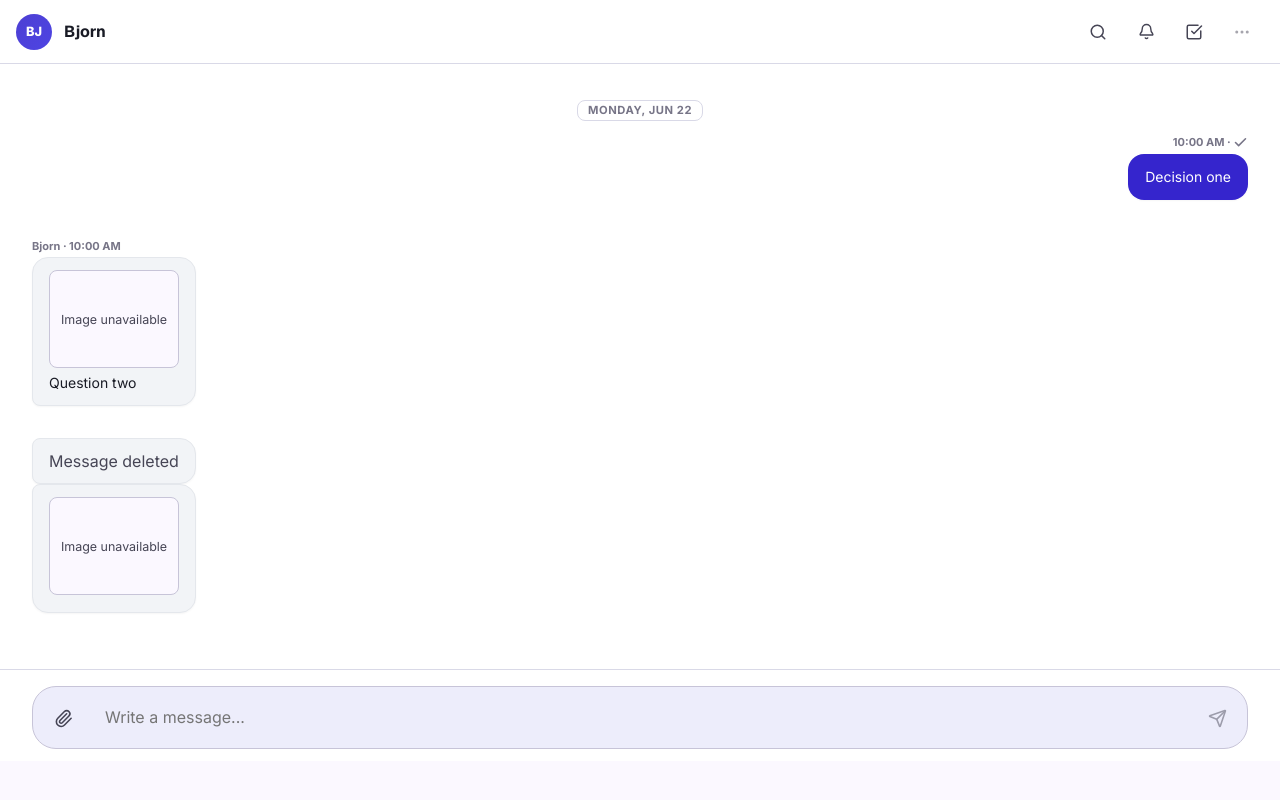
Test case: ConversationPage message forwarding › selects active text, previews exact content, removes an item, and excludes attachments
Expected: the text "Decision one" is shown, x1=1145 y1=168 x2=1231 y2=185
Click the button named "Select messages": (1194, 32) x1=1172 y1=10 x2=1216 y2=54
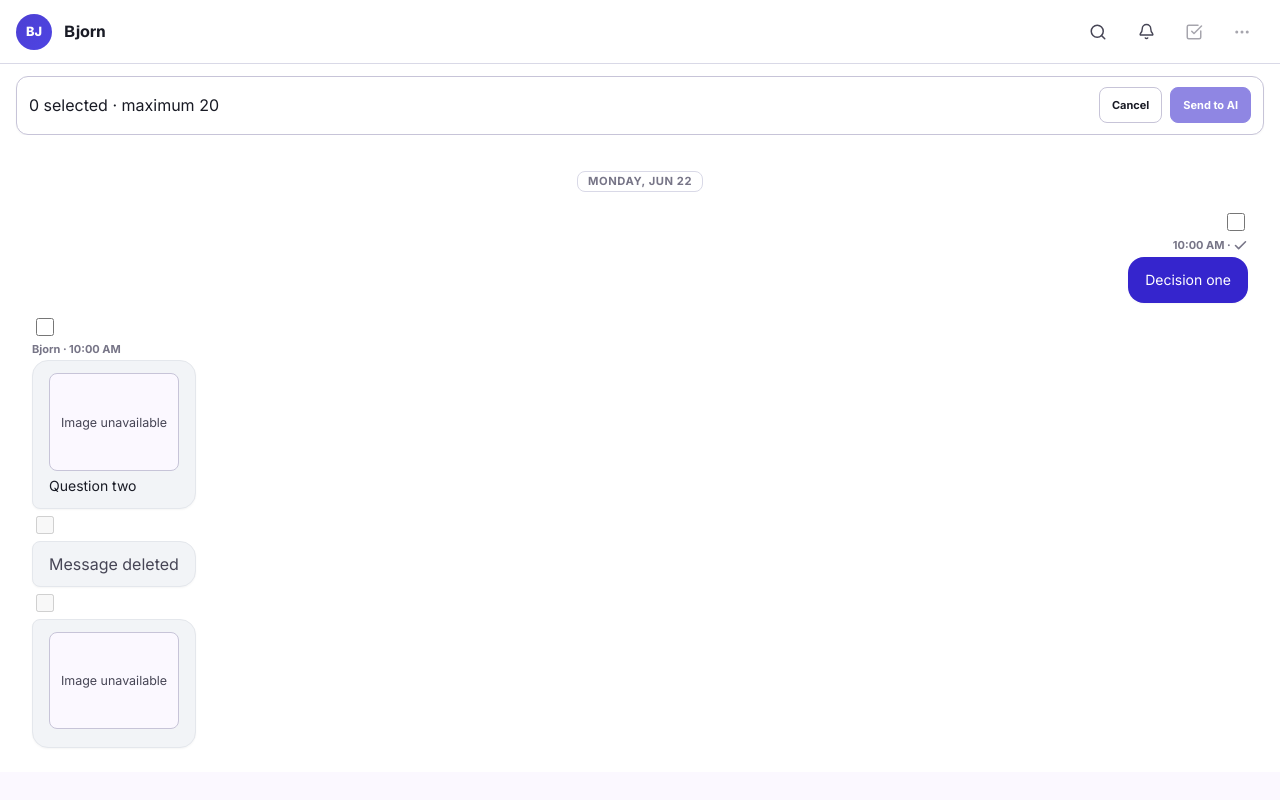
Click the checkbox named "Select message from You": (1236, 222) x1=1227 y1=213 x2=1245 y2=231
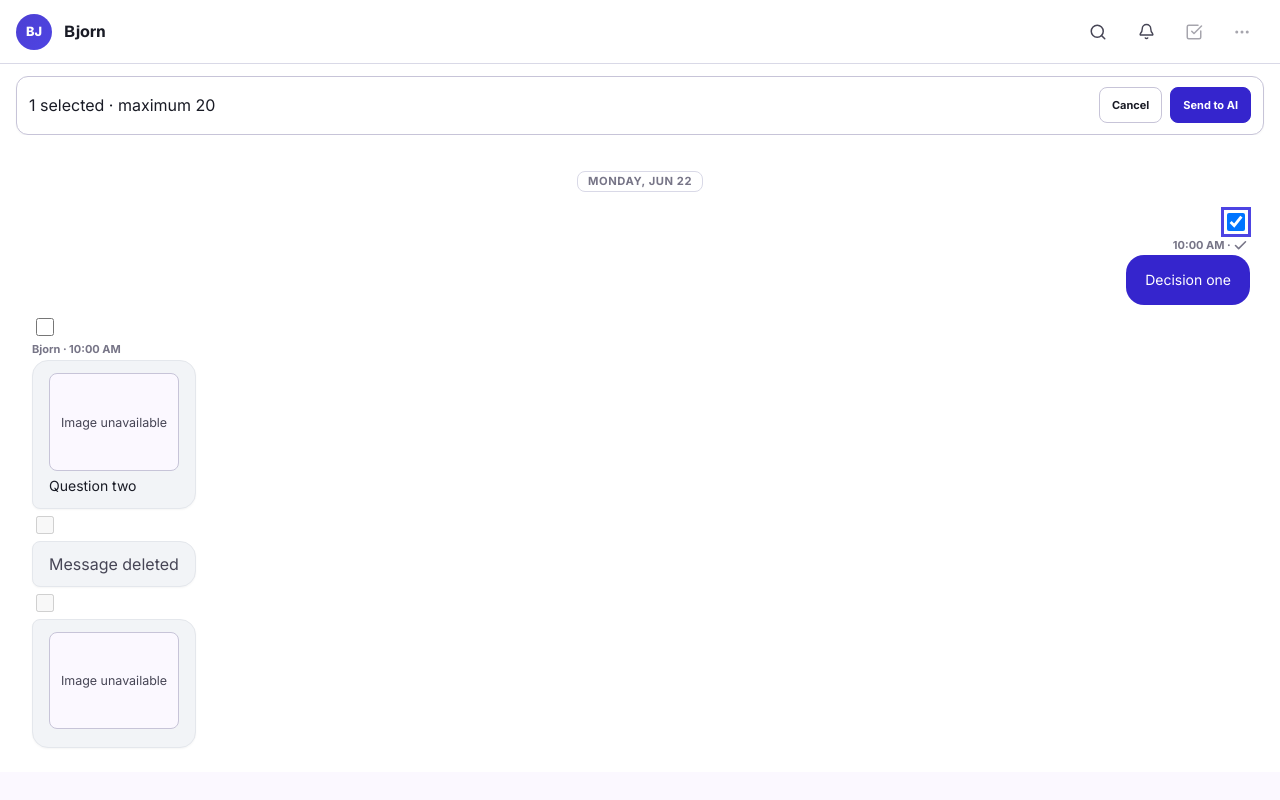
Click the checkbox named "Select message from Bjorn": (45, 327) x1=36 y1=318 x2=54 y2=336
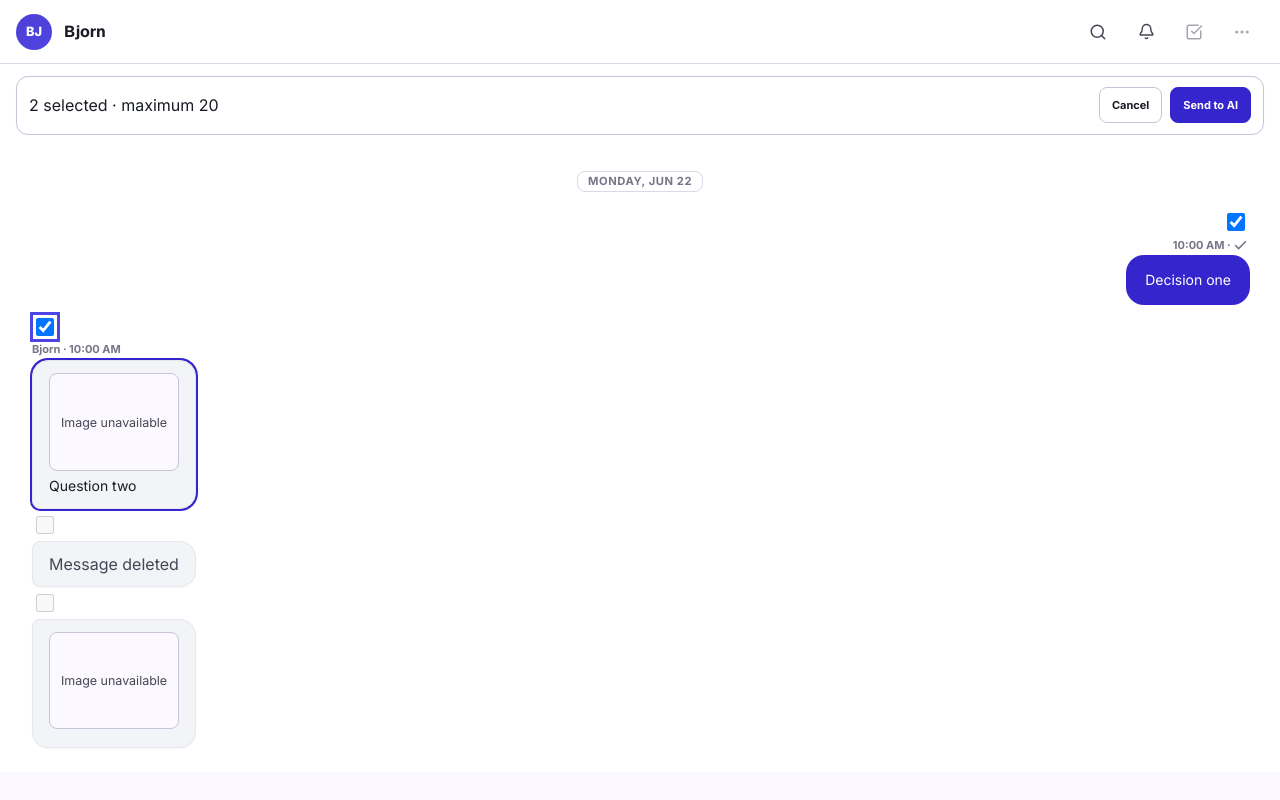
Result: the text "2 selected · maximum 20" is shown at x1=29 y1=95 x2=219 y2=115
Click the button "Send to AI": (1211, 105) x1=1170 y1=87 x2=1251 y2=123
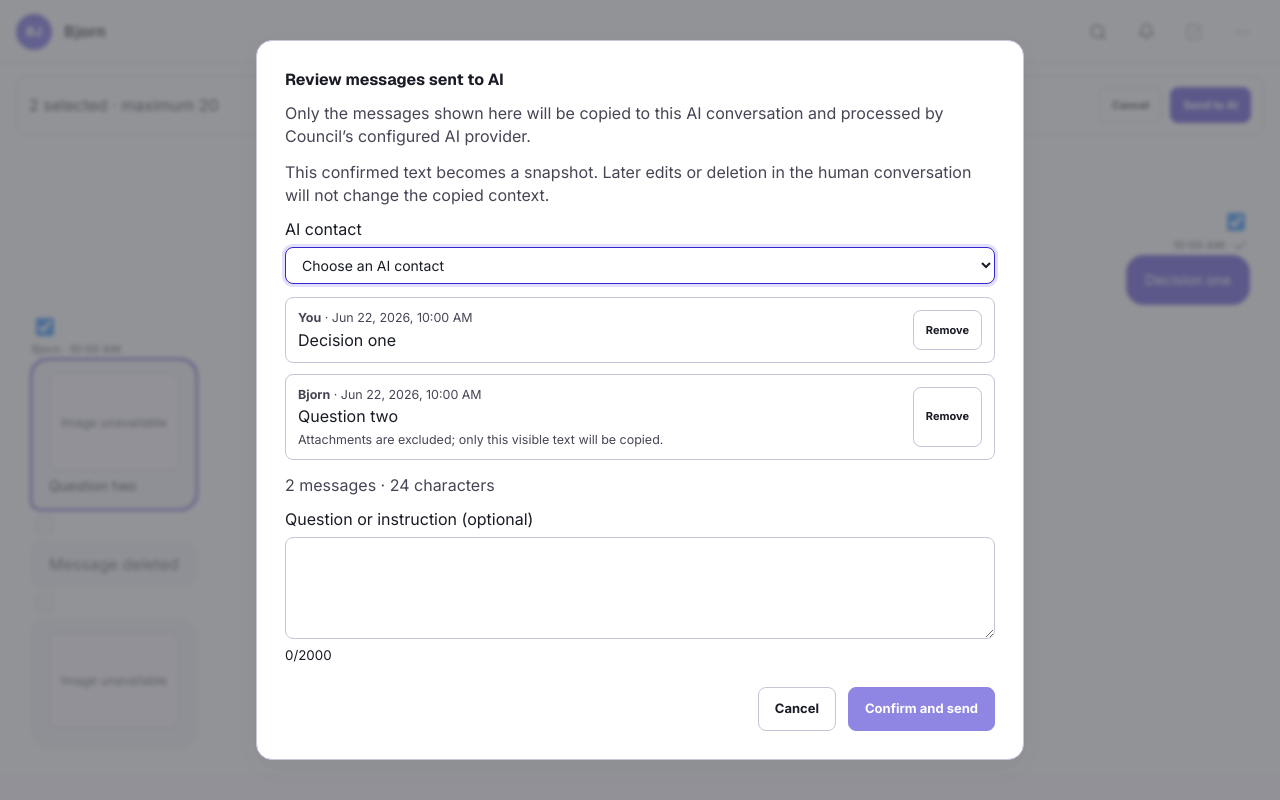
Result: the text "Only the messages shown here will be copied" is shown at x1=285 y1=103 x2=943 y2=146
Result: the text "Decision one" is shown at x1=298 y1=330 x2=396 y2=350
Result: the text "Question two" is shown at x1=298 y1=406 x2=398 y2=426
Click the button with aria-label "Remove message from Bjorn": (947, 417) x1=913 y1=387 x2=982 y2=447
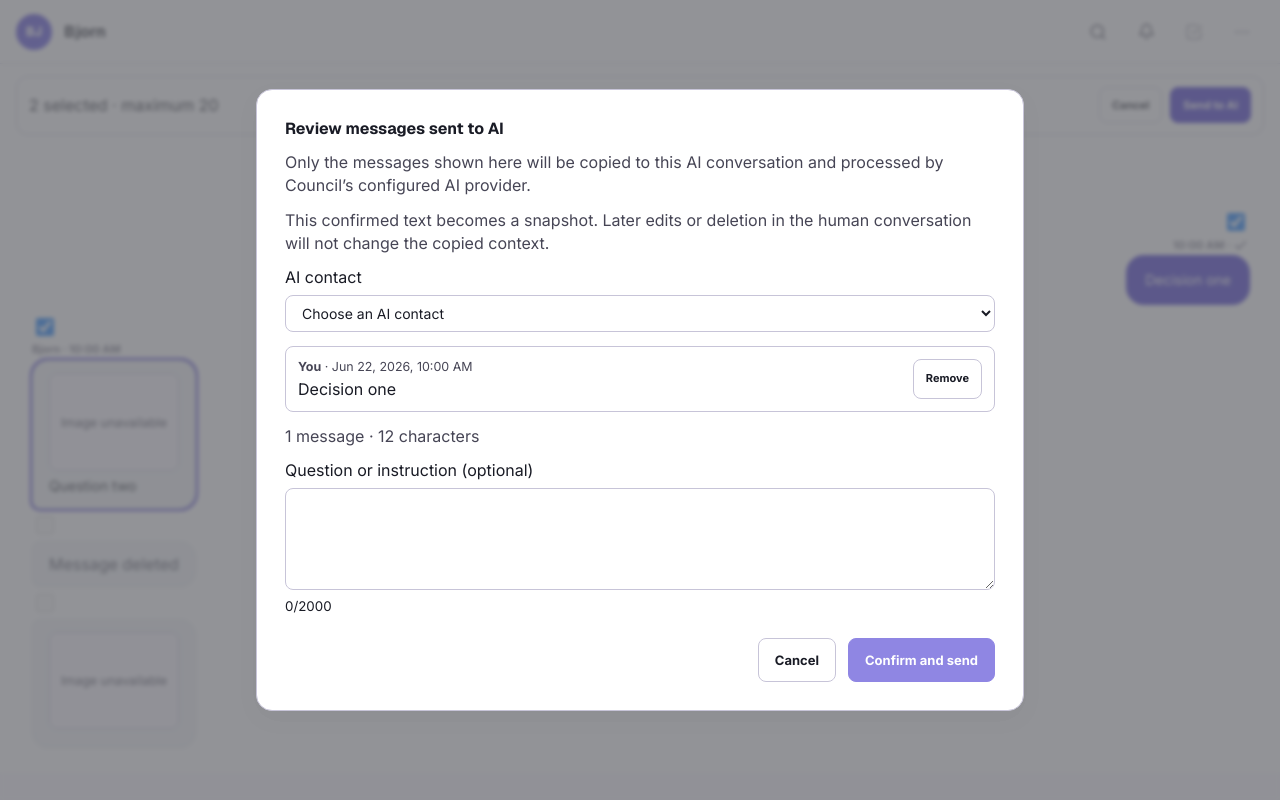
Result: the text "1 message · 12 characters" is shown at x1=285 y1=426 x2=479 y2=446
